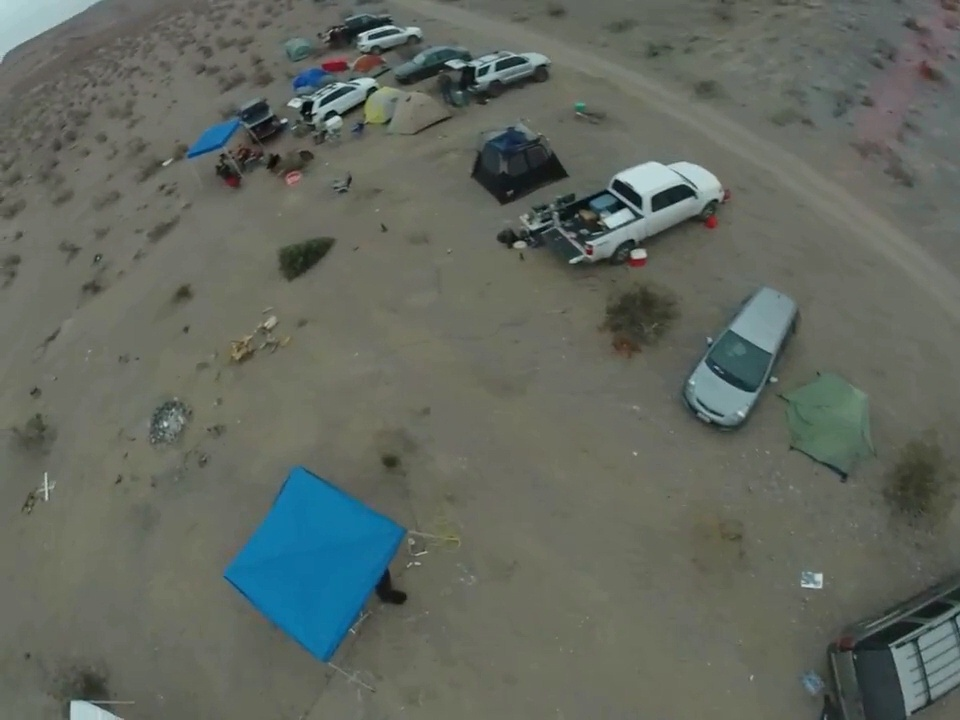araba: (681, 283, 803, 434), (458, 49, 551, 107), (297, 74, 384, 134), (392, 41, 463, 89), (357, 19, 428, 59)
insan: (435, 67, 456, 110)
kamyonet: (538, 160, 728, 263), (325, 10, 395, 46)
